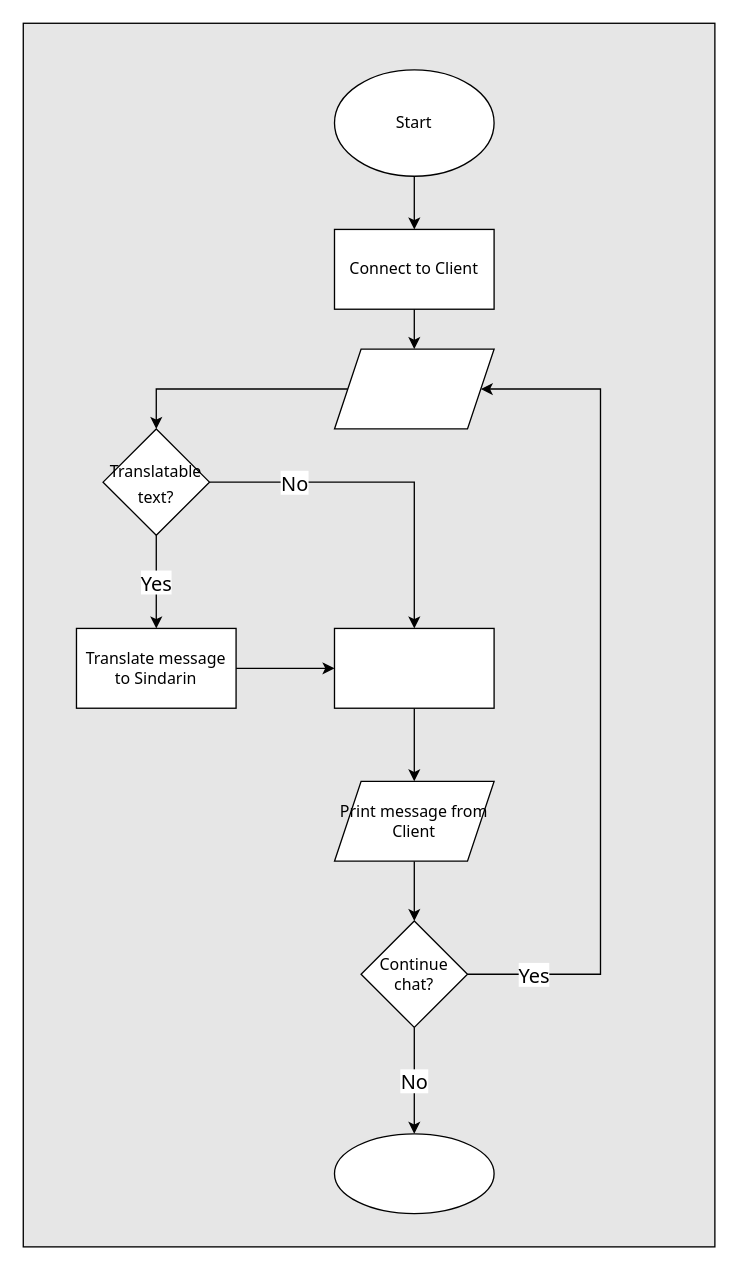
This 738x1270 diagram has some shape labels left out. Each missing label, with the box of its shape:
End: (333, 1132, 494, 1214)
Enter message: (333, 348, 494, 429)
Send to other Client: (333, 627, 494, 708)
